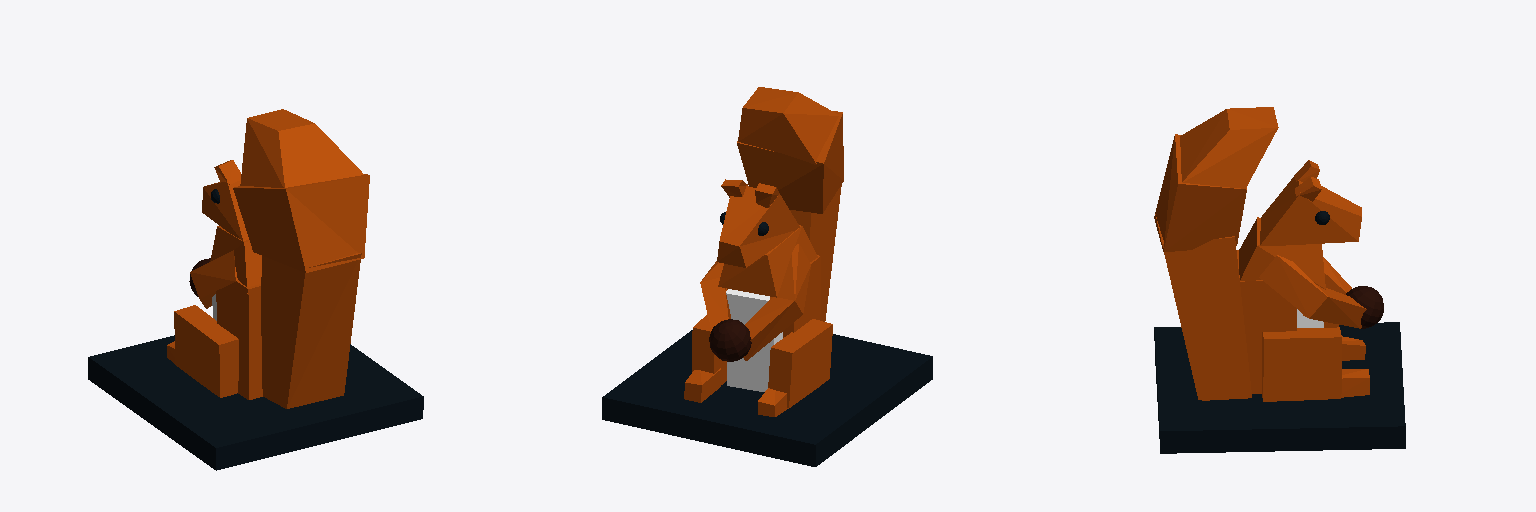
The picture shows the model from 3 angles: view 1: azimuth 30°, elevation 25°; view 2: azimuth 150°, elevation 25°; view 3: azimuth 270°, elevation 25°; orthographic projection.
Visible parts, largest first — view 1: group[number redacted], group[number redacted], group[number redacted], group[number redacted], group[number redacted], group[number redacted], group[number redacted], group[number redacted], group[number redacted]; view 2: group[number redacted], group[number redacted], group[number redacted], group[number redacted], group[number redacted], group[number redacted], group[number redacted], group[number redacted], group[number redacted], group[number redacted], group[number redacted], group[number redacted] (+4 smaller); view 3: group[number redacted], group[number redacted], group[number redacted], group[number redacted], group[number redacted], group[number redacted], group[number redacted], group[number redacted], group[number redacted], group[number redacted], group[number redacted], group[number redacted].
Part boxes in pixels (x1,y1,x2,y2): group[number redacted]: (88,335,423,470); group[number redacted]: (261,253,361,408); group[number redacted]: (233,174,369,272); group[number redacted]: (240,109,363,187); group[number redacted]: (174,305,238,397); group[number redacted]: (216,280,262,399); group[number redacted]: (202,180,248,240); group[number redacted]: (210,226,261,293); group[number redacted]: (190,250,237,298); group[number redacted]: (602,330,932,466); group[number redacted]: (738,87,838,164); group[number redacted]: (737,111,843,213); group[number redacted]: (717,186,799,267); group[number redacted]: (768,319,832,407); group[number redacted]: (718,225,817,297); group[number redacted]: (726,289,782,391); group[number redacted]: (790,185,841,321); group[number redacted]: (743,297,802,360); group[number redacted]: (709,319,751,361); group[number redacted]: (770,244,810,312); group[number redacted]: (692,314,726,384); group[number redacted]: (1154,322,1405,453); group[number redacted]: (1155,214,1251,400); group[number redacted]: (1180,107,1278,188); group[number redacted]: (1262,327,1341,401); group[number redacted]: (1154,134,1246,251); group[number redacted]: (1260,177,1361,245); group[number redacted]: (1237,250,1296,393); group[number redacted]: (1239,217,1325,289); group[number redacted]: (1259,255,1327,318); group[number redacted]: (1310,285,1366,328); group[number redacted]: (1346,286,1383,328); group[number redacted]: (1341,369,1369,397).
Size of the model in its own units: 0.7999 by 1.03 by 0.8102.